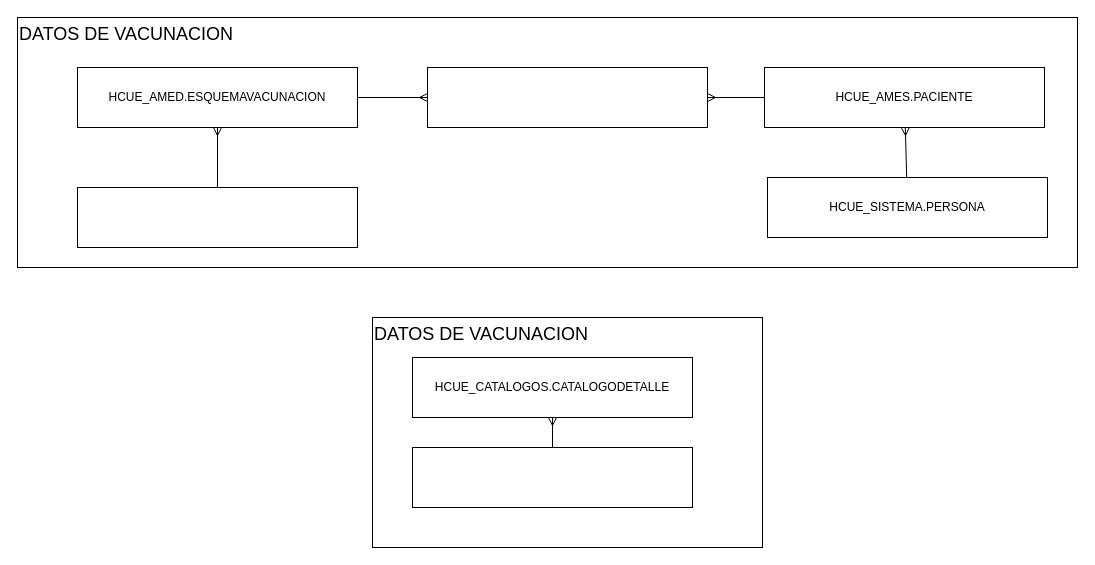
The diagram is 1095 pixels wide and 565 high, and some of its shapes have lost their labels. The shapes that lost their labels are listed below. From the top down, each one's centre as x and y in pixels, then its label:
At pixel 567 97: "HCUE_AMED.REGISTROVACUNACION".
At pixel 217 217: "HCUE_AMED.VACUNA".
At pixel 552 477: "HCUE_CATALOGOS.CATALOGOS".
